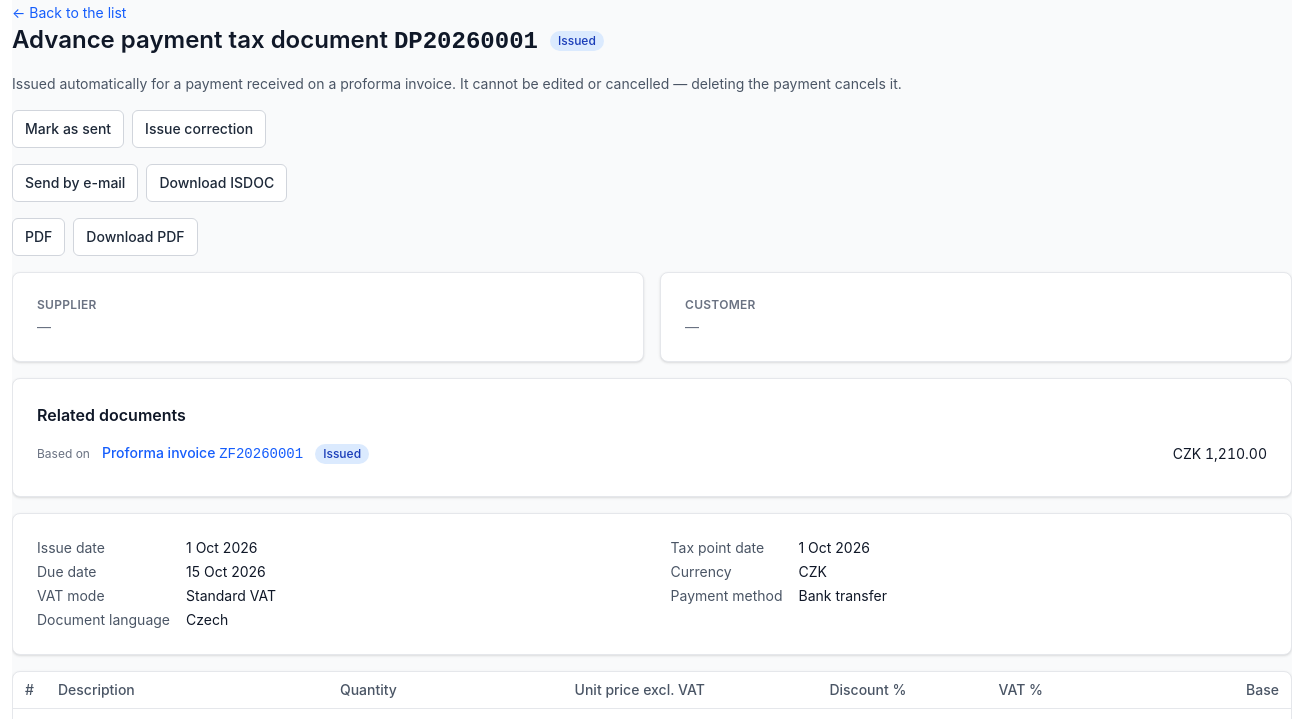
Test: detail per document type › DDPP is read-only except mark-sent and the metadata
Expected: the heading "Advance payment tax document DP20260001" is shown, [12,24,538,58]
Step 1. Click the button with test id "mark-sent" → (68, 129), box [12,110,124,148]
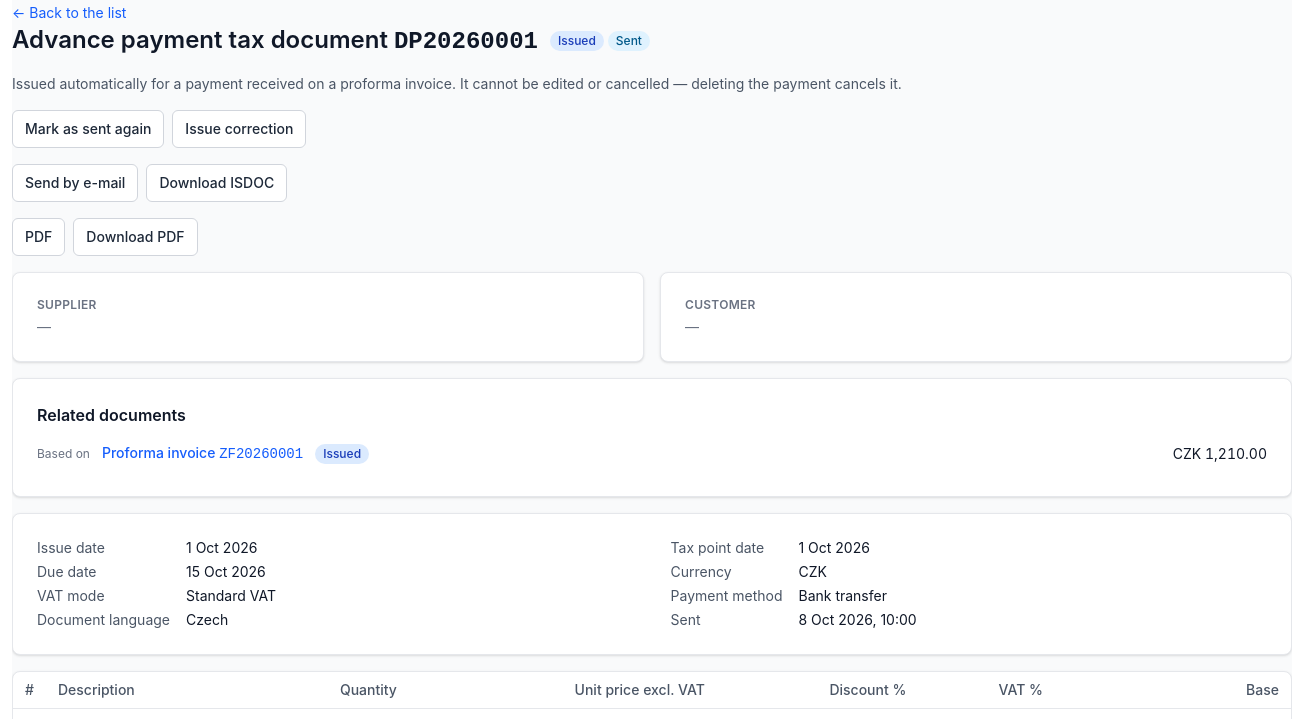
Expected: the list item with test id "related-parent" shows "Proforma invoice ZF20260001", [37,444,1267,464]
Now the button with test id "mark-sent" reads "Mark as sent again", box [12,110,164,148]
